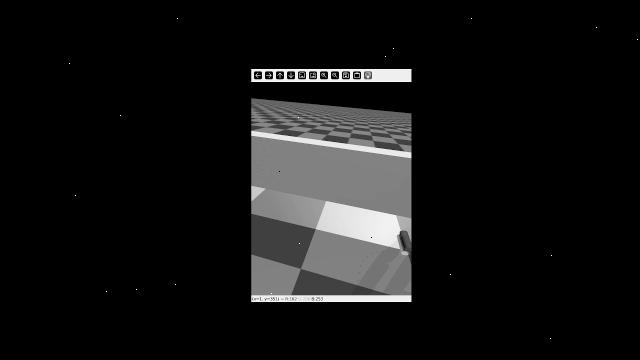cilindro: (394, 226, 414, 255)
